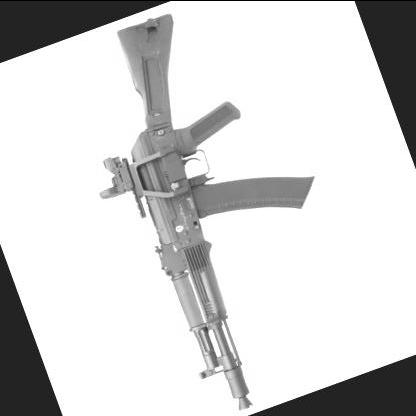rifle: (28, 0, 367, 416)
